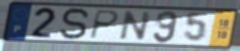2: (29, 6, 59, 40)
5: (184, 11, 209, 45)
9: (153, 10, 180, 45)
N: (117, 10, 154, 41)
P: (87, 8, 121, 40)
S: (59, 6, 92, 41)
